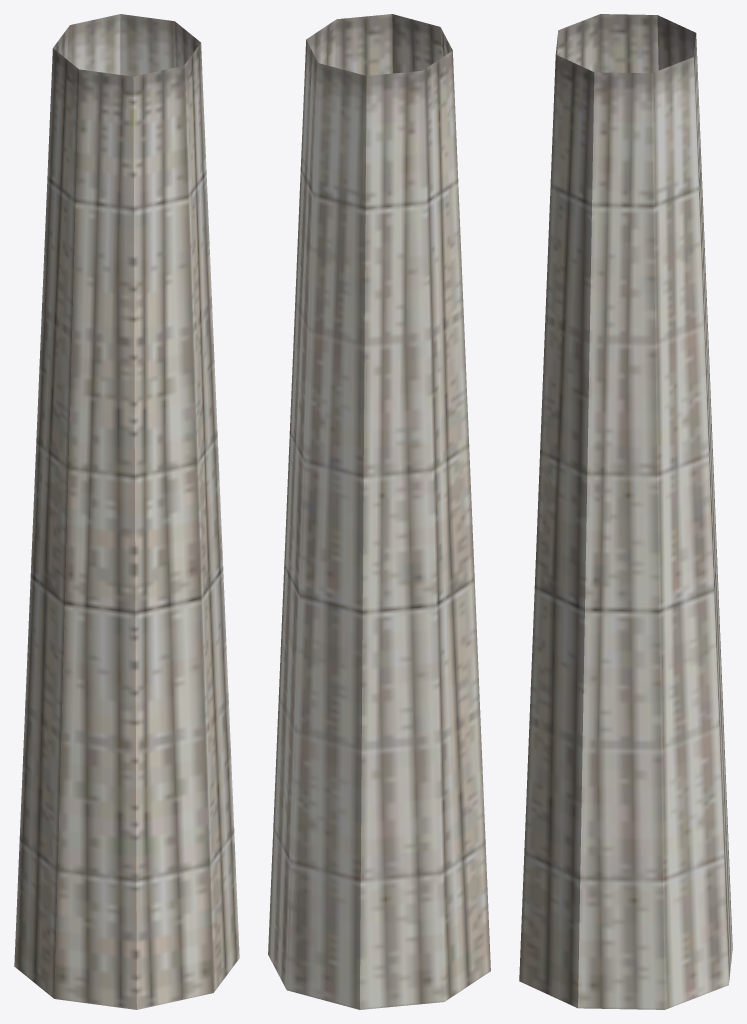
File: column_doric.dae
3 views of the same model, side by side, from view 1: azimuth 30°, elevation 25°; view 2: azimuth 150°, elevation 25°; view 3: azimuth 270°, elevation 25° (orthographic).
Parts seen in each view (by area): view 1: Doric_Column-Pivot; view 2: Doric_Column-Pivot; view 3: Doric_Column-Pivot.
Part boxes in pixels (left/top/right/bottom): Doric_Column-Pivot: left=14, top=14, right=239, bottom=1009; Doric_Column-Pivot: left=268, top=14, right=490, bottom=1009; Doric_Column-Pivot: left=519, top=14, right=732, bottom=1009.
Size of the model in its own units: 1.9 by 1.9 by 9.07.
